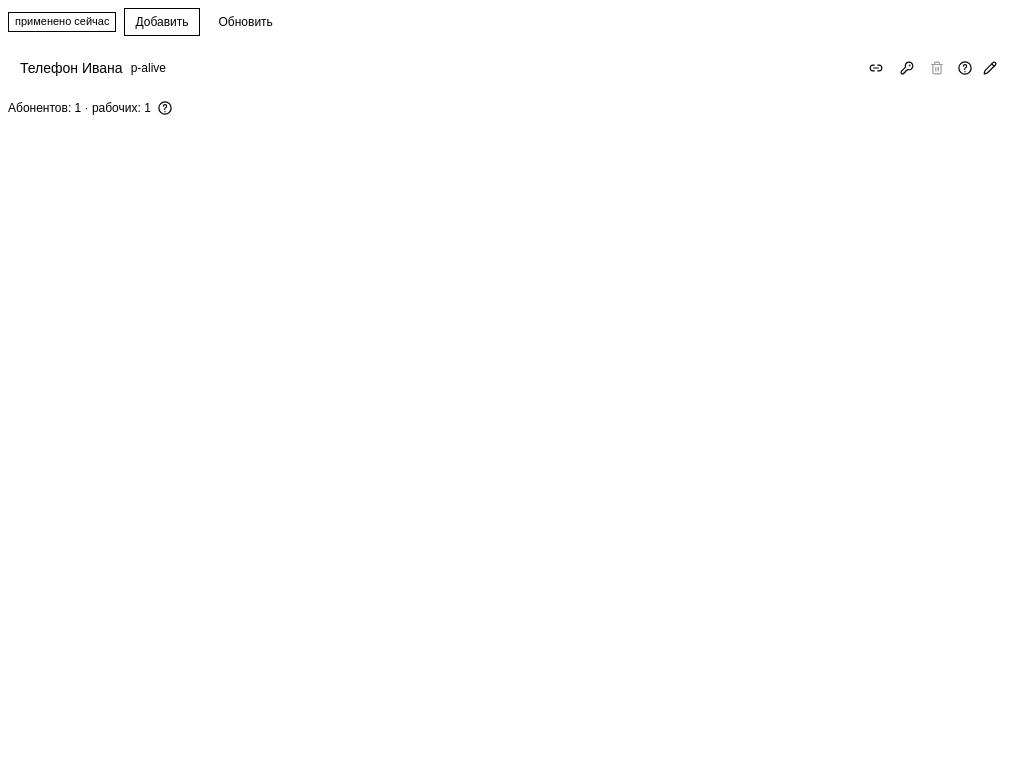
добавление › ADD_NOT_APPLIED показывает SH-26 в модалке и перечитывает список
Check: the text "Телефон Ивана" is shown, box [20,60,123,76]
Step 1. Click the button "Добавить" → (162, 22), box [124,8,200,36]
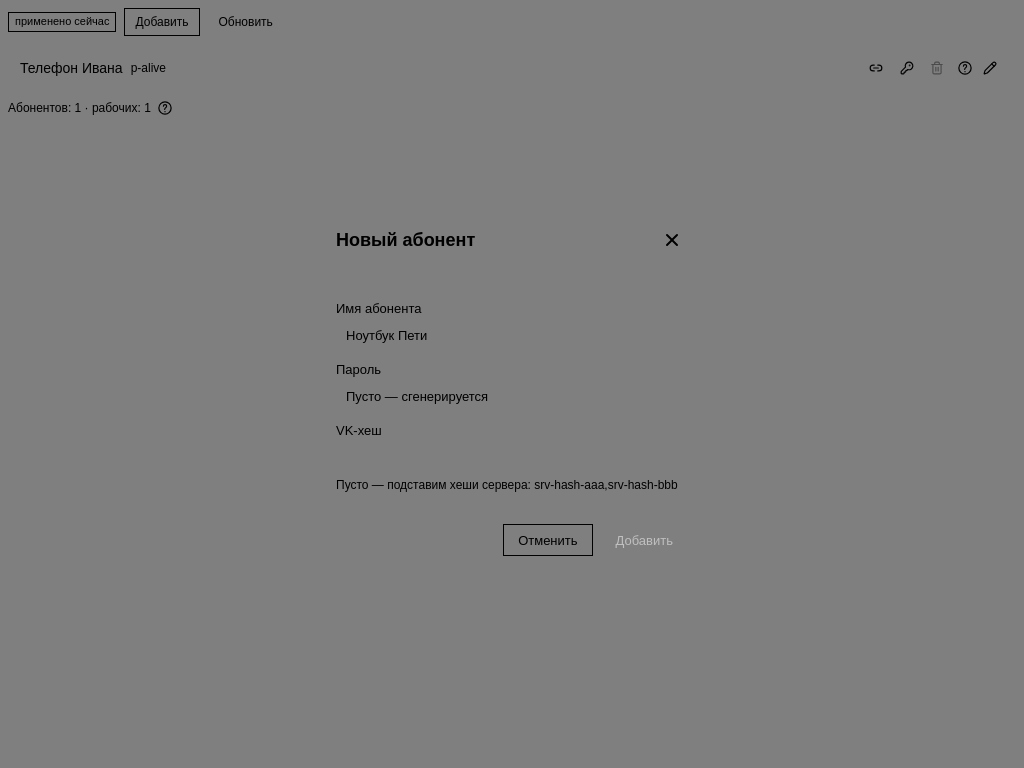
Step 2. Type "Ноутбук" into the field labelled "Имя абонента" → (512, 336), box [336,320,688,352]
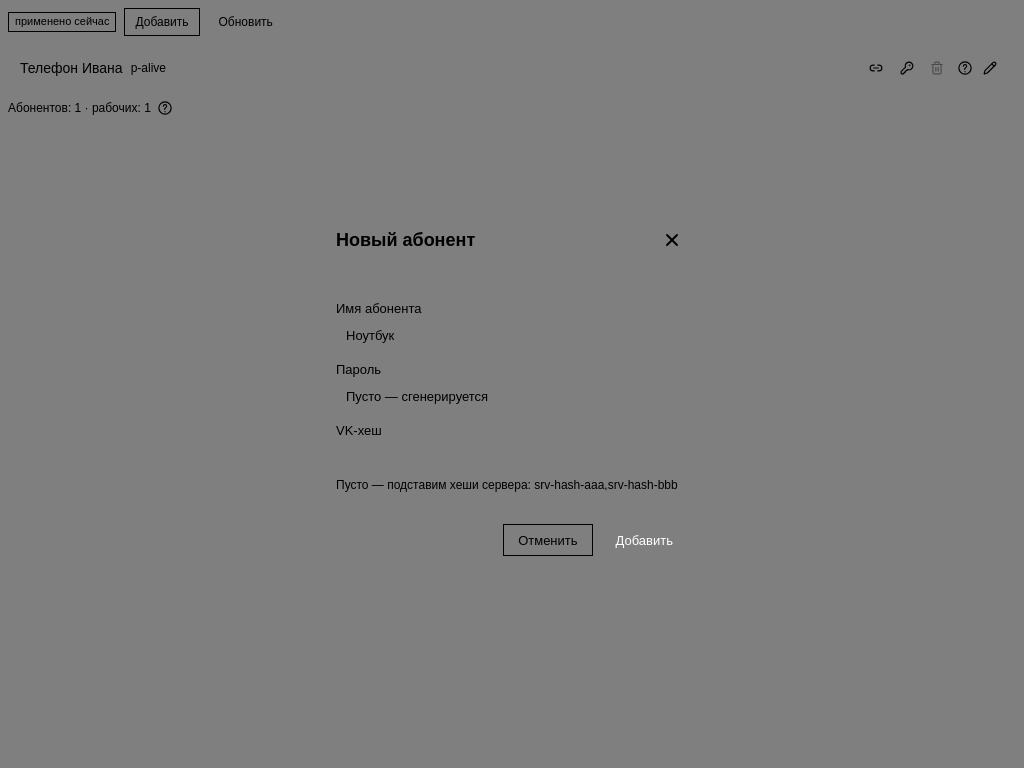
Step 3. Click the button "Добавить" → (644, 540), box [600,524,688,556]
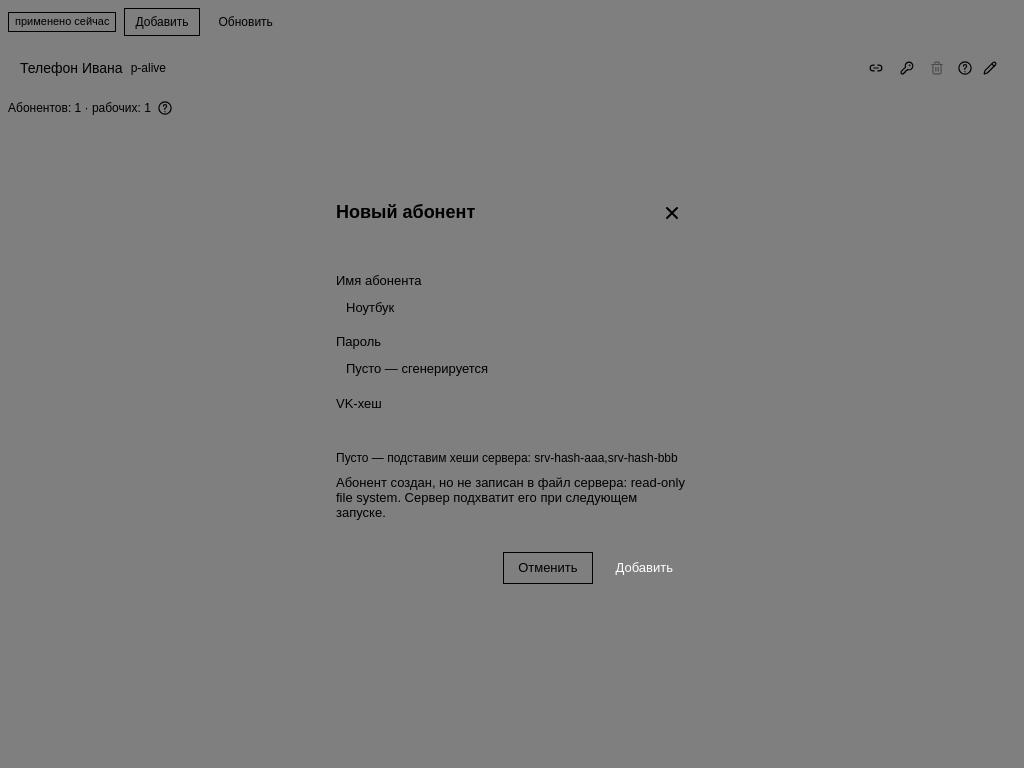
Check: the dialog is shown
Check: the text "Абонент создан, но не записан в файл сервера: read-only file system. Сервер подхватит его при следующем запуске." is shown, box [336,475,685,520]
